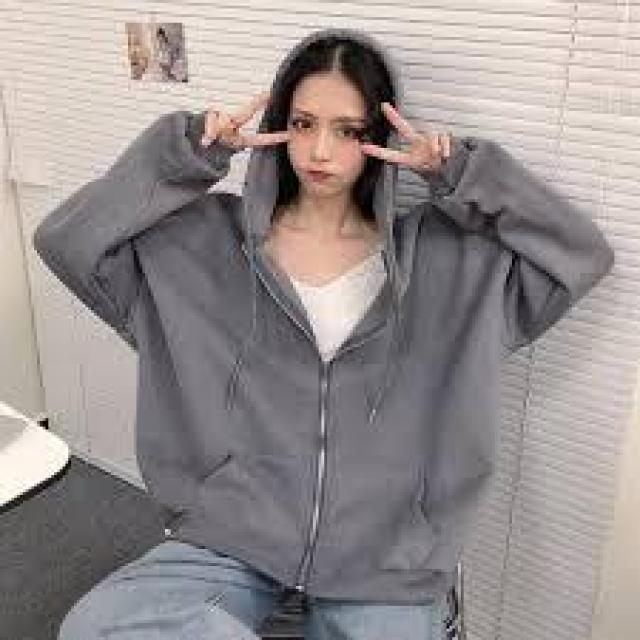sweater: (32, 30, 618, 573)
